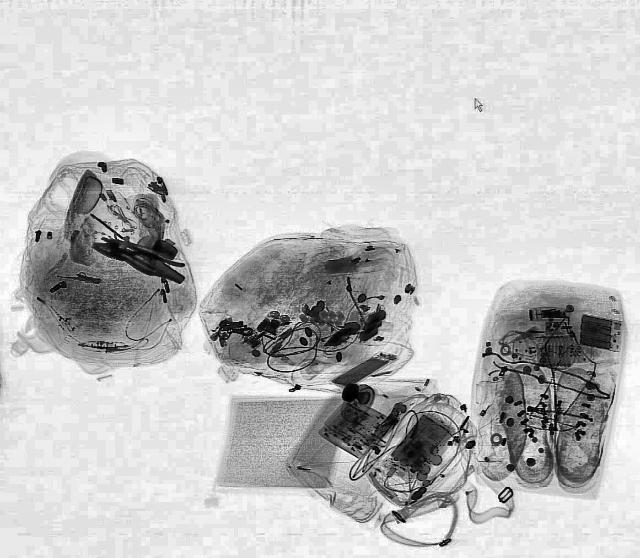Pliers: (88, 234, 190, 286)
